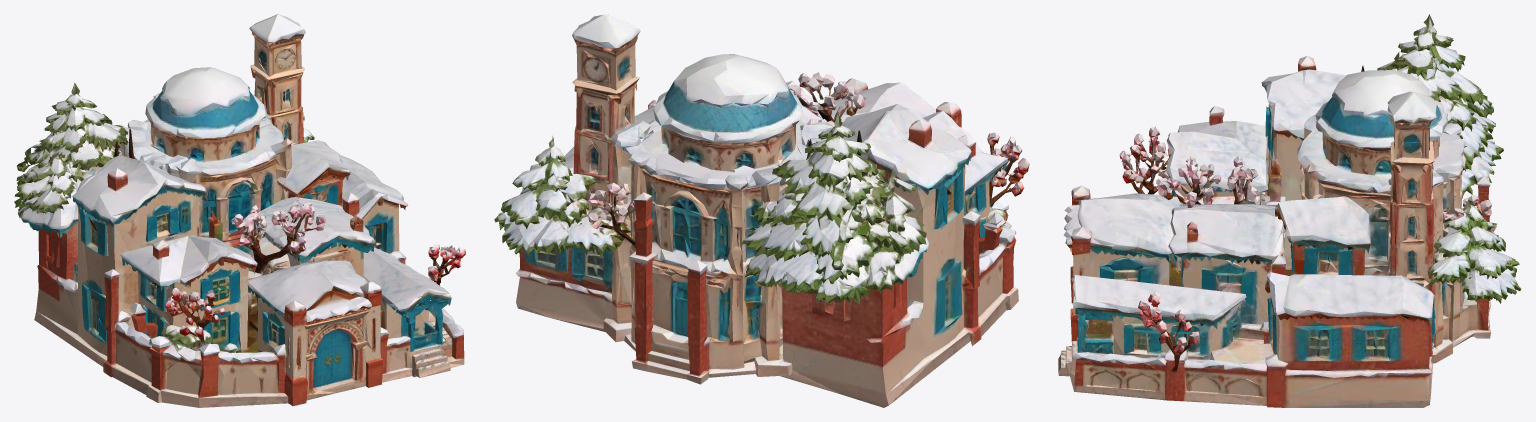
File: yining_town.glb
The picture shows the model from 3 angles, left to right: view 1: azimuth 30°, elevation 25°; view 2: azimuth 150°, elevation 25°; view 3: azimuth 270°, elevation 25°; orthographic projection. The views are drawn at different scales.
Size of the model in its own units: 1.79 by 1.3 by 1.9.
1 material, 1 textured.
